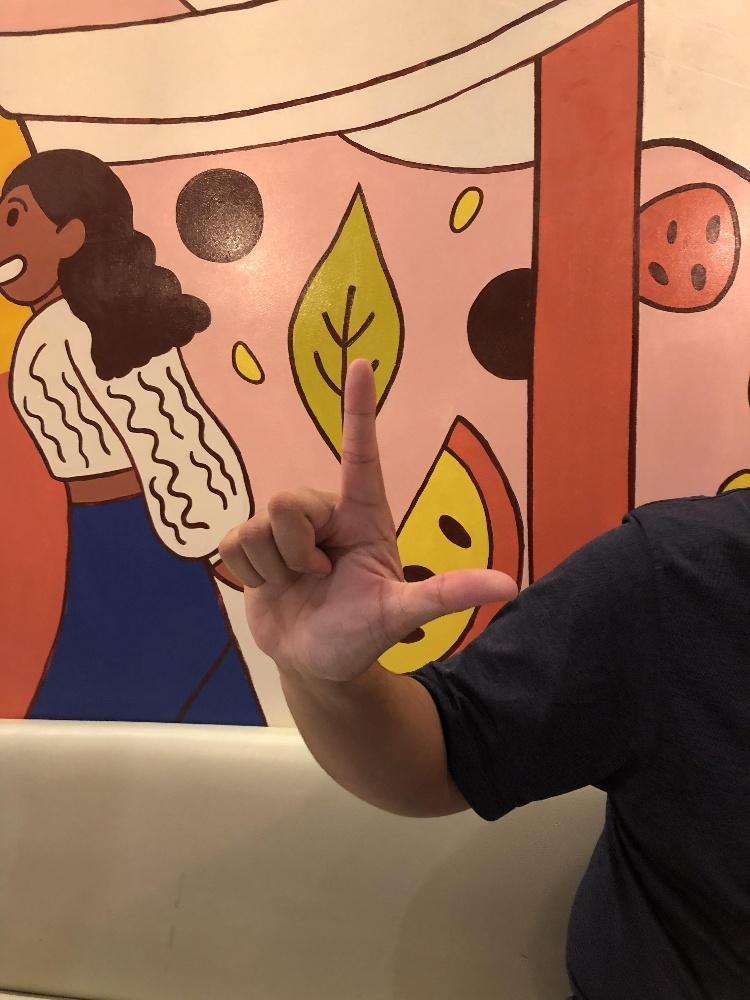l: (216, 356, 521, 683)
